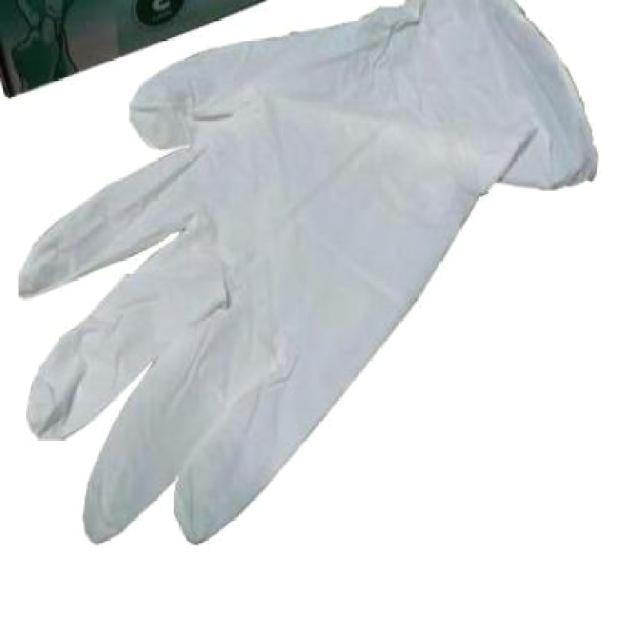glove: (15, 0, 598, 568)
